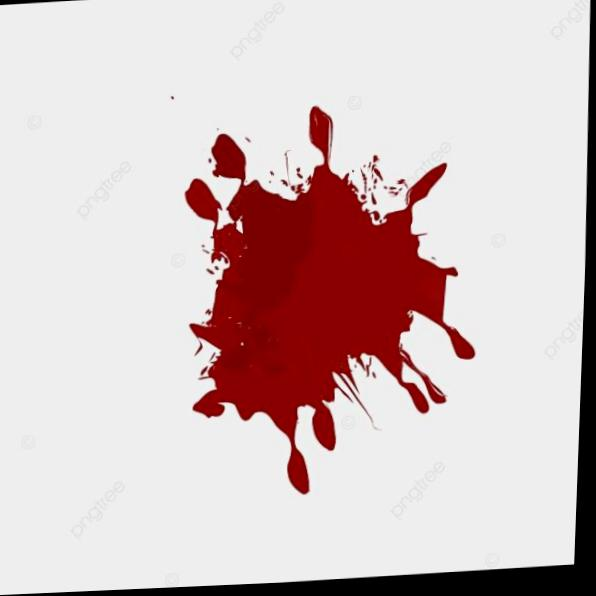Fire: (186, 108, 478, 497)
